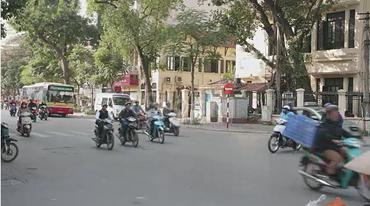bus: (14, 76, 78, 119)
motorcycle: (288, 129, 370, 195), (266, 110, 318, 157), (91, 115, 121, 154), (141, 104, 167, 148), (117, 107, 141, 150), (13, 100, 36, 140), (165, 102, 183, 139), (28, 95, 39, 125), (38, 101, 49, 123)
